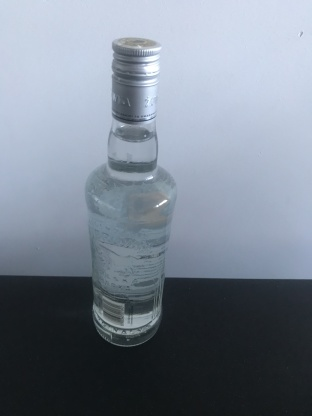nakretka: (110, 35, 162, 126)
